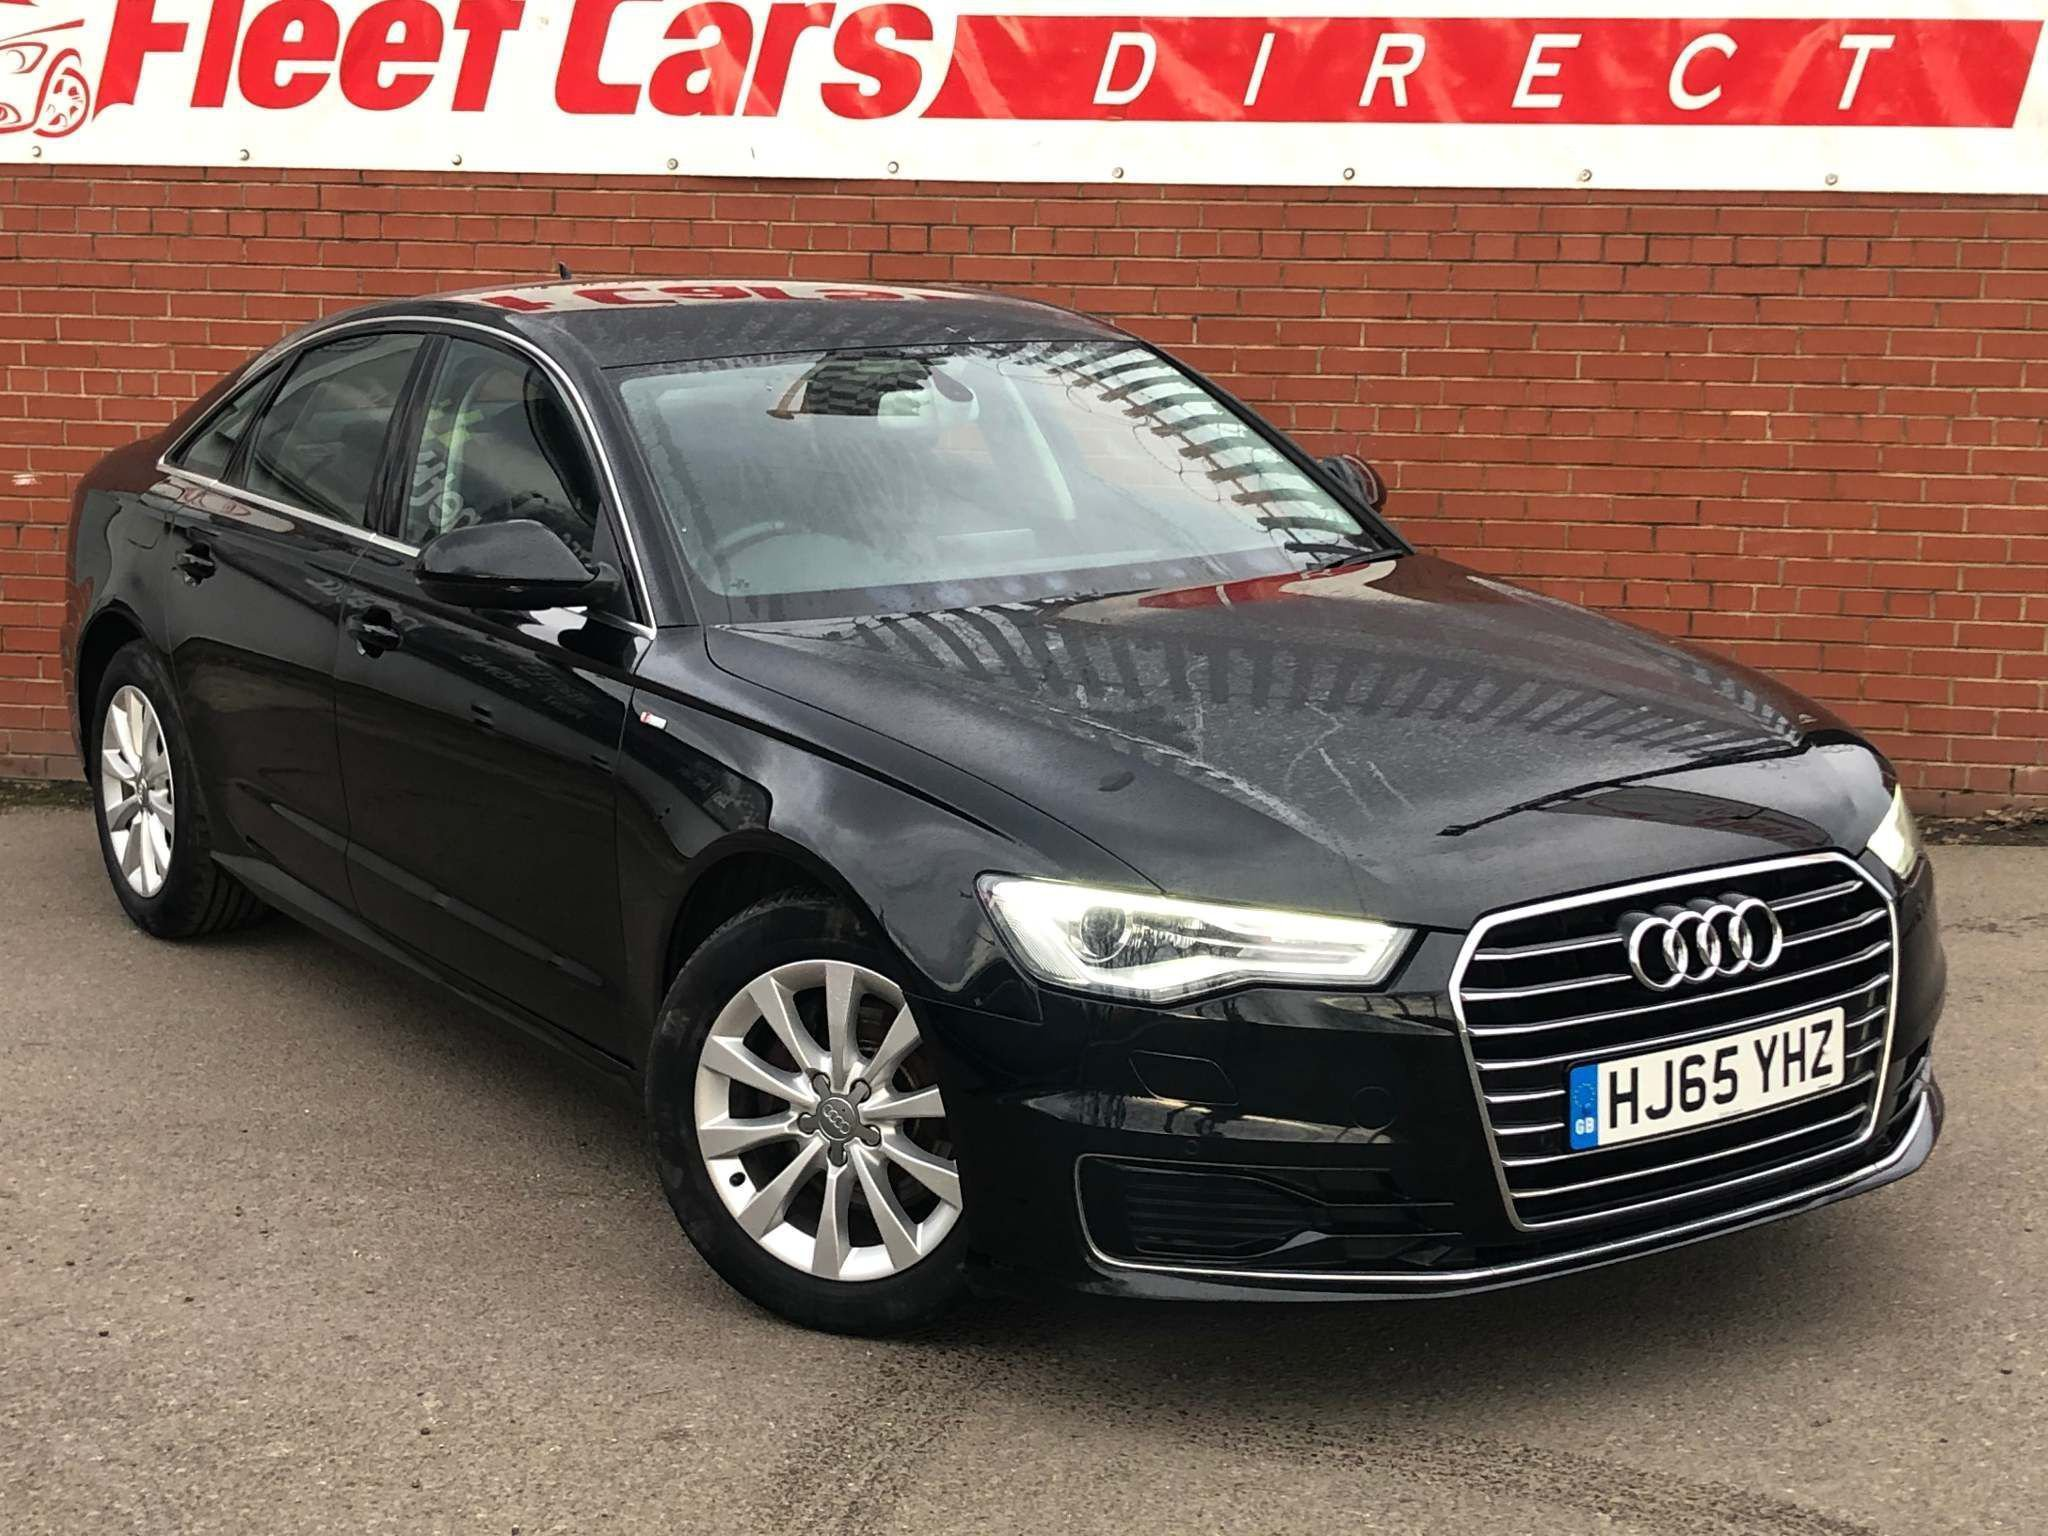car: (55, 279, 1954, 1313)
